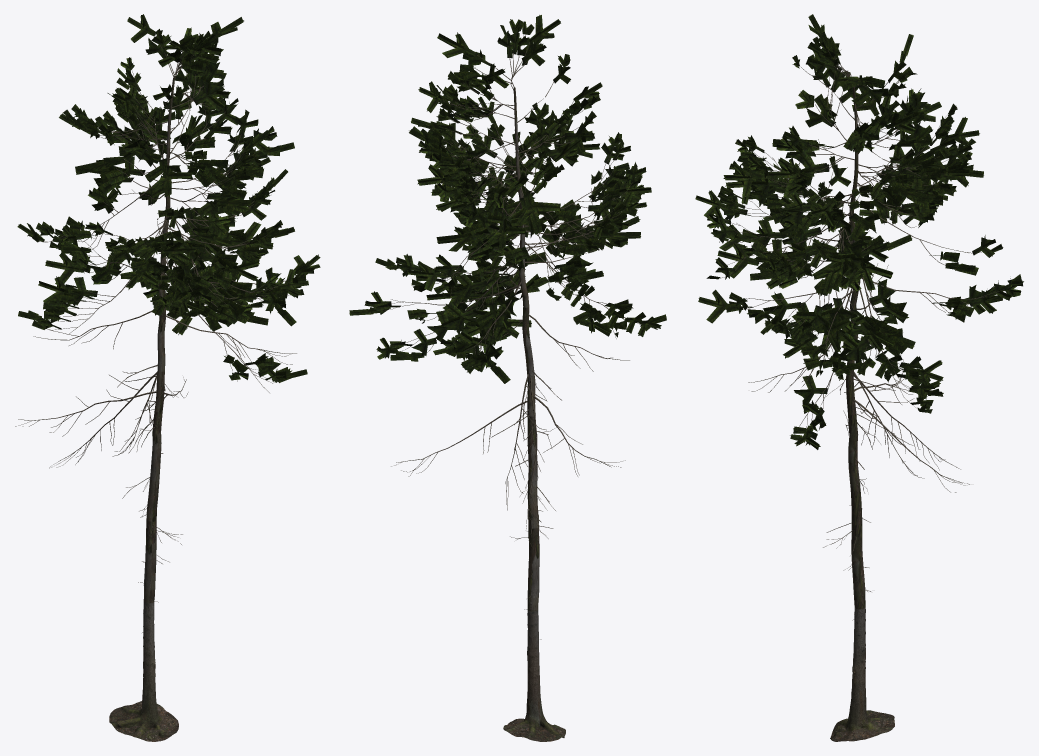
File: fir-c-lod2.glb
3 views of the same model, side by side, from view 1: azimuth 30°, elevation 25°; view 2: azimuth 150°, elevation 25°; view 3: azimuth 270°, elevation 25° (orthographic). The views are drawn at different scales.
Visible parts, largest first — view 1: fir_c_lod2; view 2: fir_c_lod2; view 3: fir_c_lod2.
Part boxes in pixels (x1=…): fir_c_lod2: x1=15, y1=14, x2=320, y2=741; fir_c_lod2: x1=349, y1=15, x2=666, y2=741; fir_c_lod2: x1=695, y1=14, x2=1023, y2=741.
Bounding box in the file's own units: 6.35 × 14.55 × 6.01.
Materials: 4 (4 with a texture image).
